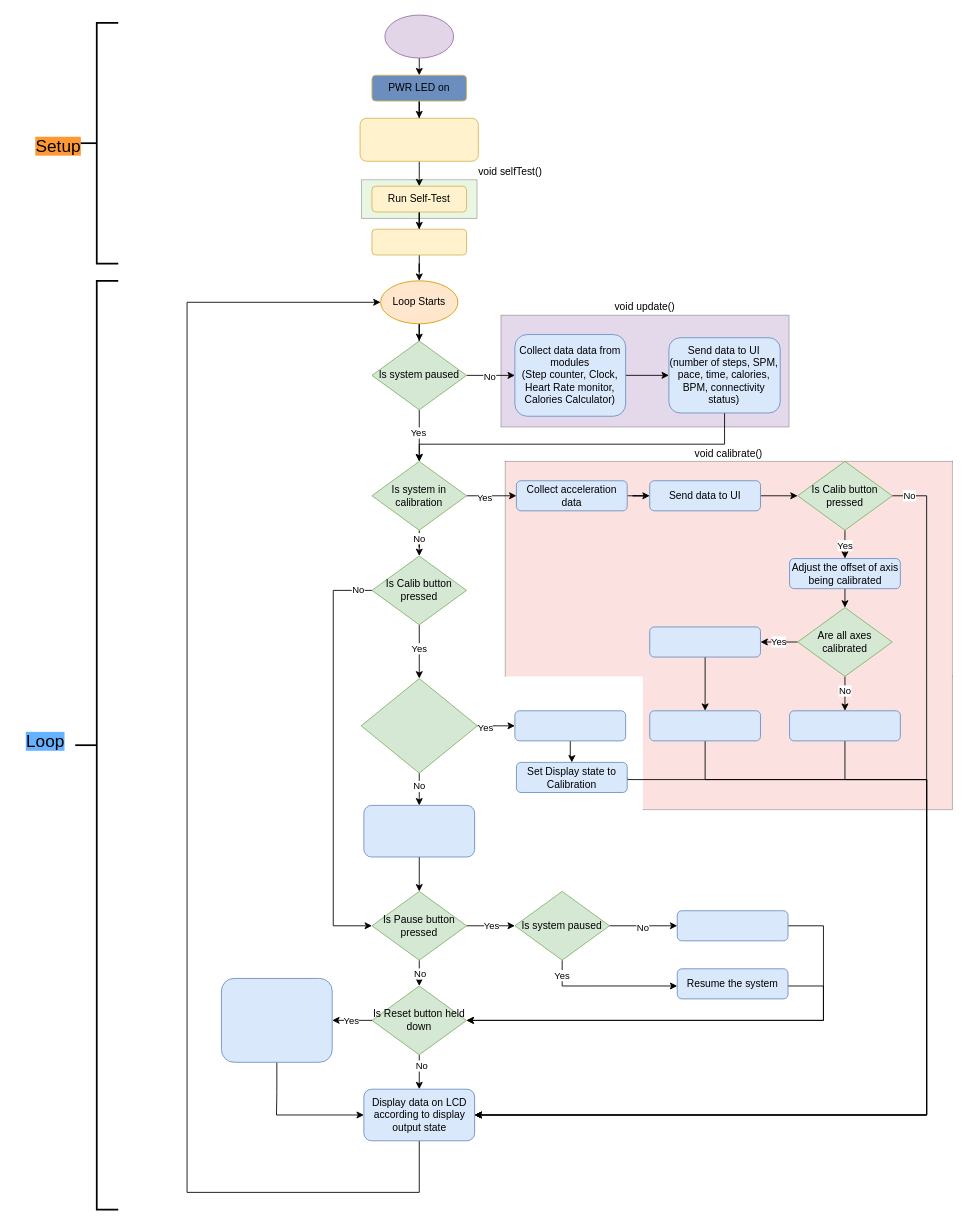
Some shapes in this 968 by 1226 pixel diagram are drawn without their labels. The centre of each missing label's shape, as x and y in pixels:
Change display output state (between Steps and Stats): (x=419, y=831)
Enter calibration mode: (x=570, y=725)
Finish calibration: (x=704, y=641)
Has it been less than 0.5s since last press?: (x=418, y=725)
Increment axis selector (move on to next axis): (x=844, y=725)
Pause the system: (x=732, y=925)
Reset all the modules (set step count, SPM, clock, calories to 0, pace to IDLE): (x=276, y=1020)
Resume normal mode operation: (x=704, y=725)
Set LEDs to IDLE pace: (x=419, y=241)
Start: (x=419, y=36)
Start all the modules (UI, Step counter, clock, Heart rate monitor): (x=418, y=139)
